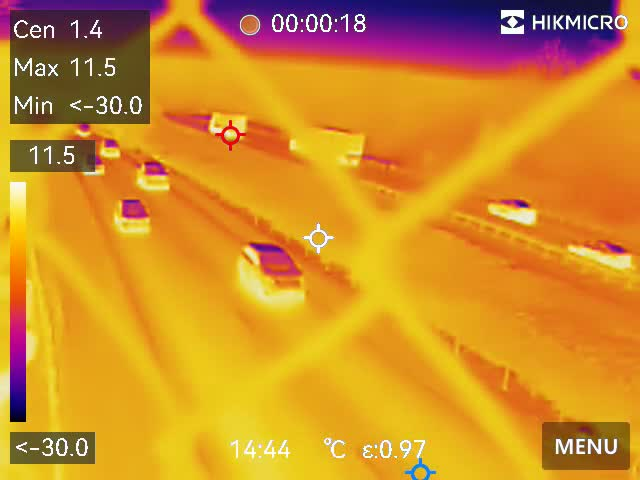heavyTruck: (282, 120, 368, 170), (206, 110, 249, 141)
largeCar: (239, 240, 307, 305)
lightTruck: (135, 157, 171, 195)
smallCar: (566, 235, 629, 272)
vehicle: (483, 193, 535, 226), (117, 194, 149, 237), (78, 146, 108, 181), (97, 135, 123, 165), (73, 120, 96, 141)
